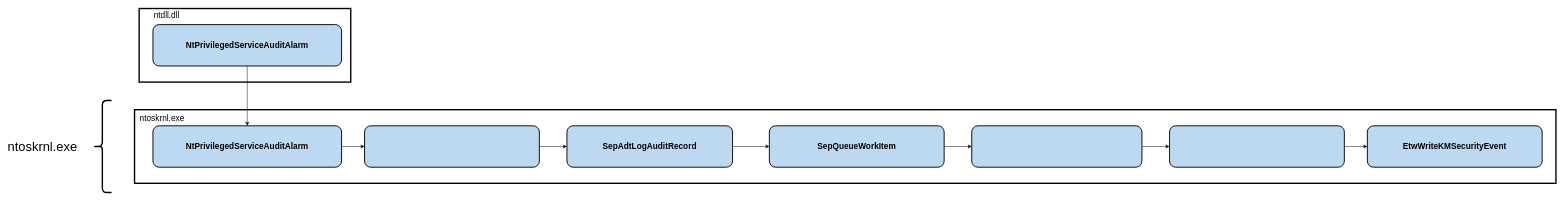
Some shapes in this 1564 by 201 pixel diagram are drawn without their labels. Each missing label, with the box of its shape:
AdtpWriteToEtw: (1169, 125, 1345, 167)
SepAdtPrivilegedServiceAuditAlarm: (364, 125, 540, 167)
SepRmCallLsa: (971, 125, 1142, 167)
